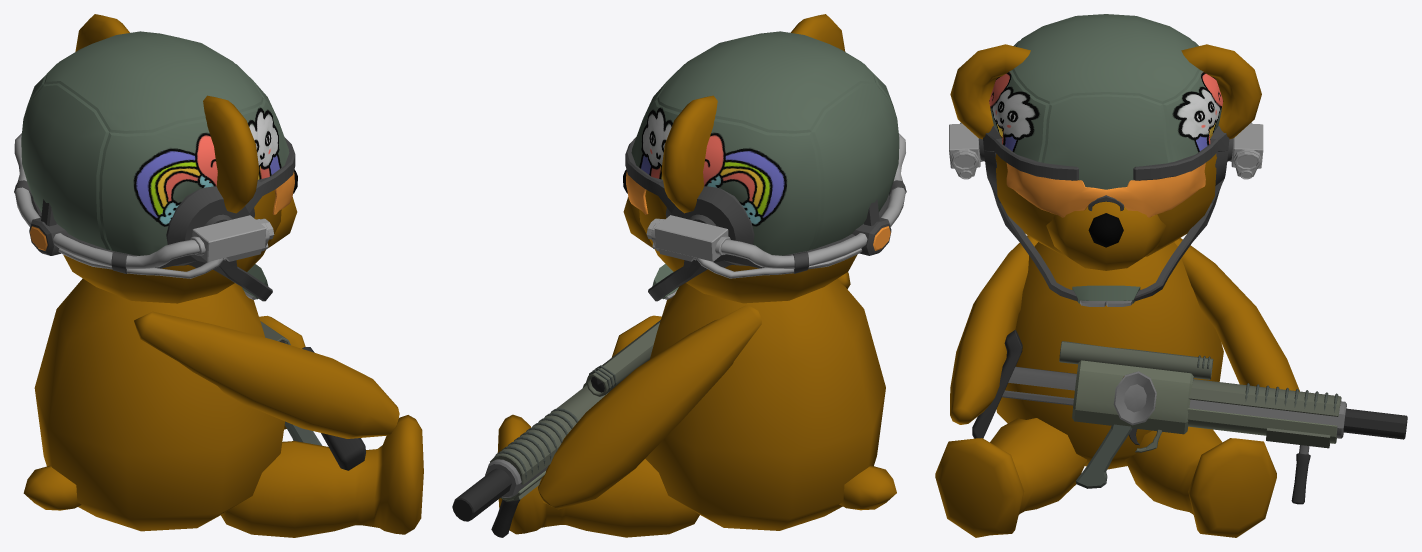
The model's file is TeddyBearOFDOOM_FluffyArmy.fbx.
3 renders of one model, left to right at view 1: azimuth 30°, elevation 25°; view 2: azimuth 150°, elevation 25°; view 3: azimuth 270°, elevation 25°, orthographic. The views are drawn at different scales.
Parts seen in each view (by area): view 1: pCube30, polySurface75, polySurface70, polySurface65, polySurface106, polySurface103, polySurface120, polySurface104, polySurface102, polySurface69; view 2: pCube30, polySurface75, polySurface73, polySurface120, polySurface69, polySurface106, polySurface104, polySurface103, polySurface65, polySurface102; view 3: pCube30, polySurface120, polySurface75, polySurface65, polySurface69, polySurface70, polySurface73, polySurface102, polySurface106, polySurface104, polySurface103, polySurface107.
Part boxes in pixels (bbox=[...]): pCube30: bbox=[14, 31, 295, 301]; polySurface75: bbox=[23, 278, 284, 531]; polySurface70: bbox=[134, 311, 399, 438]; polySurface65: bbox=[221, 415, 423, 537]; polySurface106: bbox=[63, 190, 281, 303]; polySurface103: bbox=[203, 95, 259, 213]; polySurface120: bbox=[260, 321, 365, 470]; polySurface104: bbox=[75, 14, 129, 51]; polySurface102: bbox=[268, 197, 297, 247]; polySurface69: bbox=[259, 315, 305, 429]; pCube30: bbox=[625, 31, 906, 301]; polySurface75: bbox=[645, 278, 896, 530]; polySurface73: bbox=[538, 305, 761, 509]; polySurface120: bbox=[452, 320, 660, 537]; polySurface69: bbox=[497, 414, 699, 537]; polySurface106: bbox=[639, 190, 857, 303]; polySurface104: bbox=[661, 95, 717, 213]; polySurface103: bbox=[790, 14, 845, 51]; polySurface65: bbox=[611, 315, 661, 357]; polySurface102: bbox=[623, 197, 652, 247]; pCube30: bbox=[949, 14, 1263, 306]; polySurface120: bbox=[972, 330, 1407, 504]; polySurface75: bbox=[996, 242, 1223, 469]; polySurface65: bbox=[935, 418, 1087, 537]; polySurface69: bbox=[1125, 426, 1276, 537]; polySurface70: bbox=[950, 235, 1037, 424]; polySurface73: bbox=[1174, 238, 1299, 391]; polySurface102: bbox=[1046, 201, 1165, 270]; polySurface106: bbox=[995, 134, 1216, 256]; polySurface104: bbox=[1181, 44, 1261, 139]; polySurface103: bbox=[950, 44, 1030, 139]; polySurface107: bbox=[1088, 213, 1123, 247].
Bounding box in the file's own units: 73.94 × 97.83 × 97.74.
3 materials, 3 textured.
